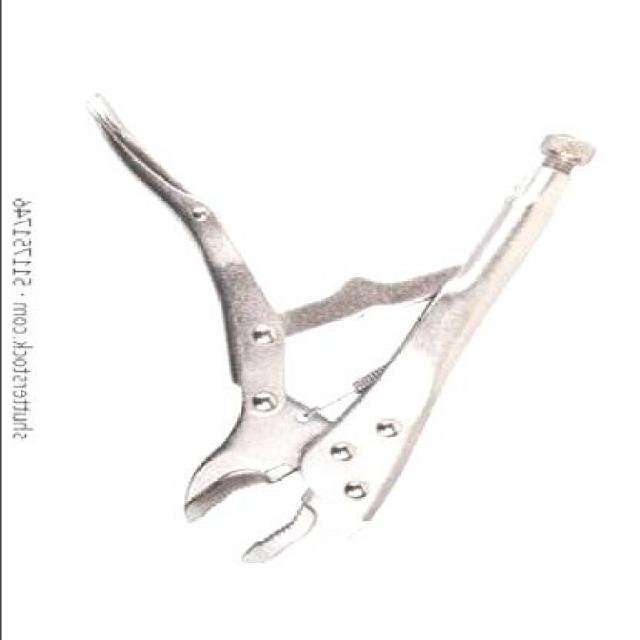pliers: (72, 86, 605, 576)
